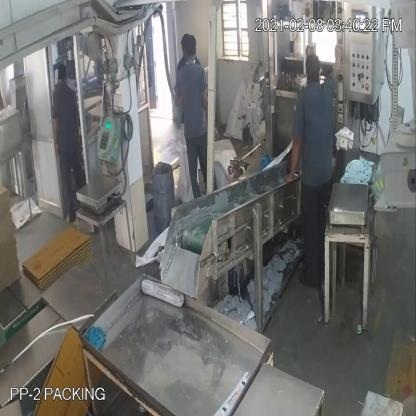no_glove: (282, 129, 306, 184), (326, 42, 344, 82)
